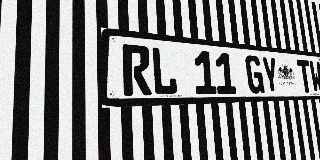1: (193, 50, 217, 94), (214, 52, 236, 94)
G: (245, 55, 265, 94)
L: (150, 46, 178, 95)
R: (122, 44, 152, 96)
T: (297, 59, 313, 93)
W: (309, 61, 320, 93)
Y: (261, 56, 280, 93)
